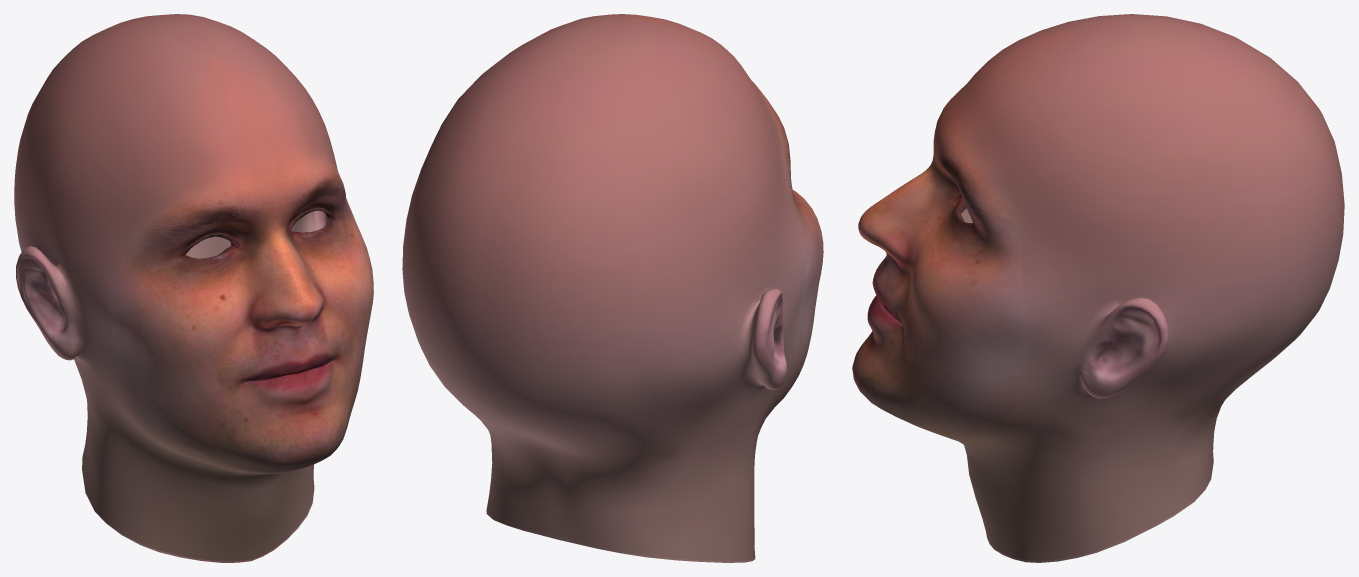
3 views of the same model, side by side, from view 1: azimuth 30°, elevation 25°; view 2: azimuth 150°, elevation 25°; view 3: azimuth 270°, elevation 25° (orthographic). The views are drawn at different scales.
Parts seen in each view (by area): view 1: FaceGen; view 2: FaceGen; view 3: FaceGen.
Boxes of the visible parts, bbox=[...] form: FaceGen: bbox=[14, 14, 373, 562]; FaceGen: bbox=[402, 14, 823, 562]; FaceGen: bbox=[852, 14, 1344, 562].
Size of the model in its own units: 190 by 279 by 243.
1 material, 1 textured.
